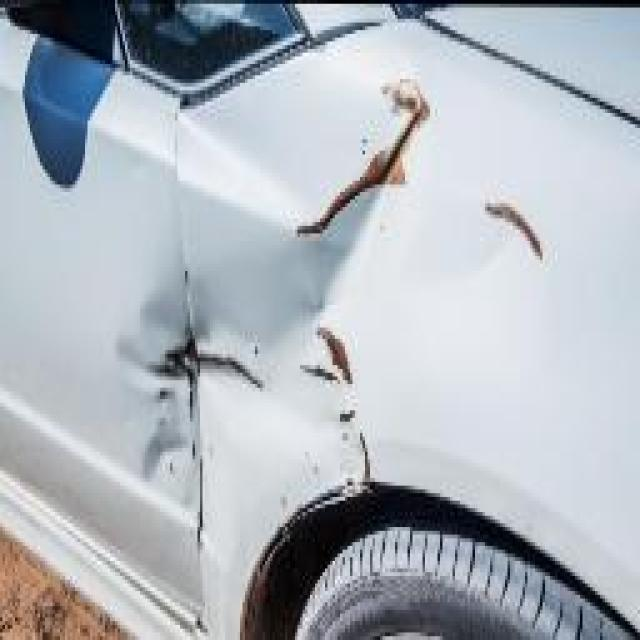Door: (105, 252, 195, 524)
Fender: (205, 75, 548, 609)
